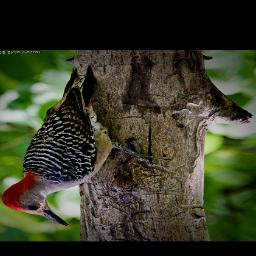Woodpecker: (0, 65, 176, 229)
